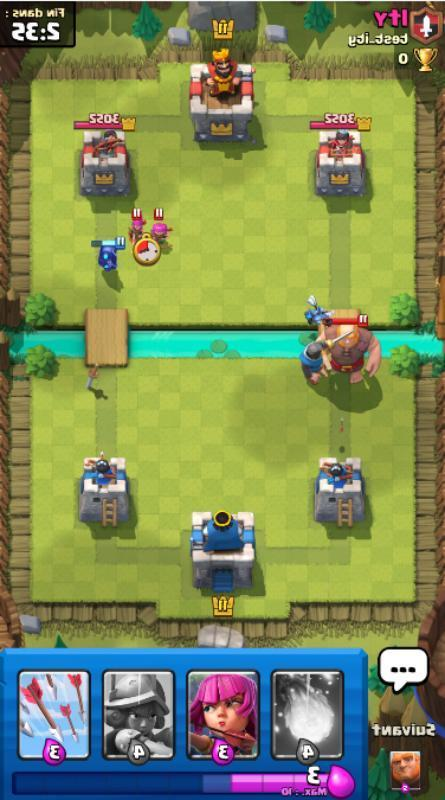enemy_archers: (149, 210, 175, 246), (125, 209, 148, 244)
enemy_giant: (317, 315, 385, 387)
player_knight: (294, 336, 330, 382)
player_mini_pekka: (88, 232, 126, 276)
player_minions: (301, 293, 332, 327)
